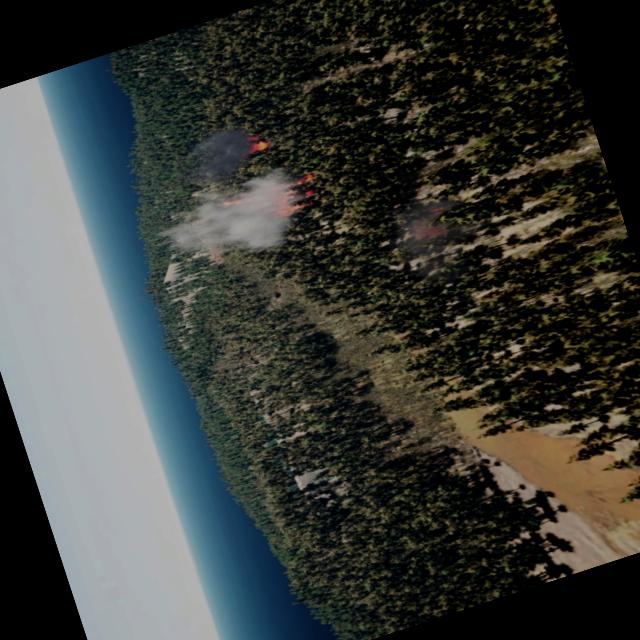fire: (258, 169, 329, 221), (242, 128, 274, 158)
smoke: (133, 110, 320, 282), (380, 181, 478, 279)
